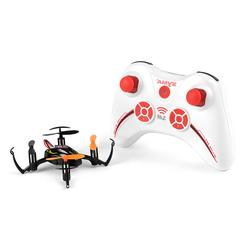drone: (7, 126, 117, 192)
